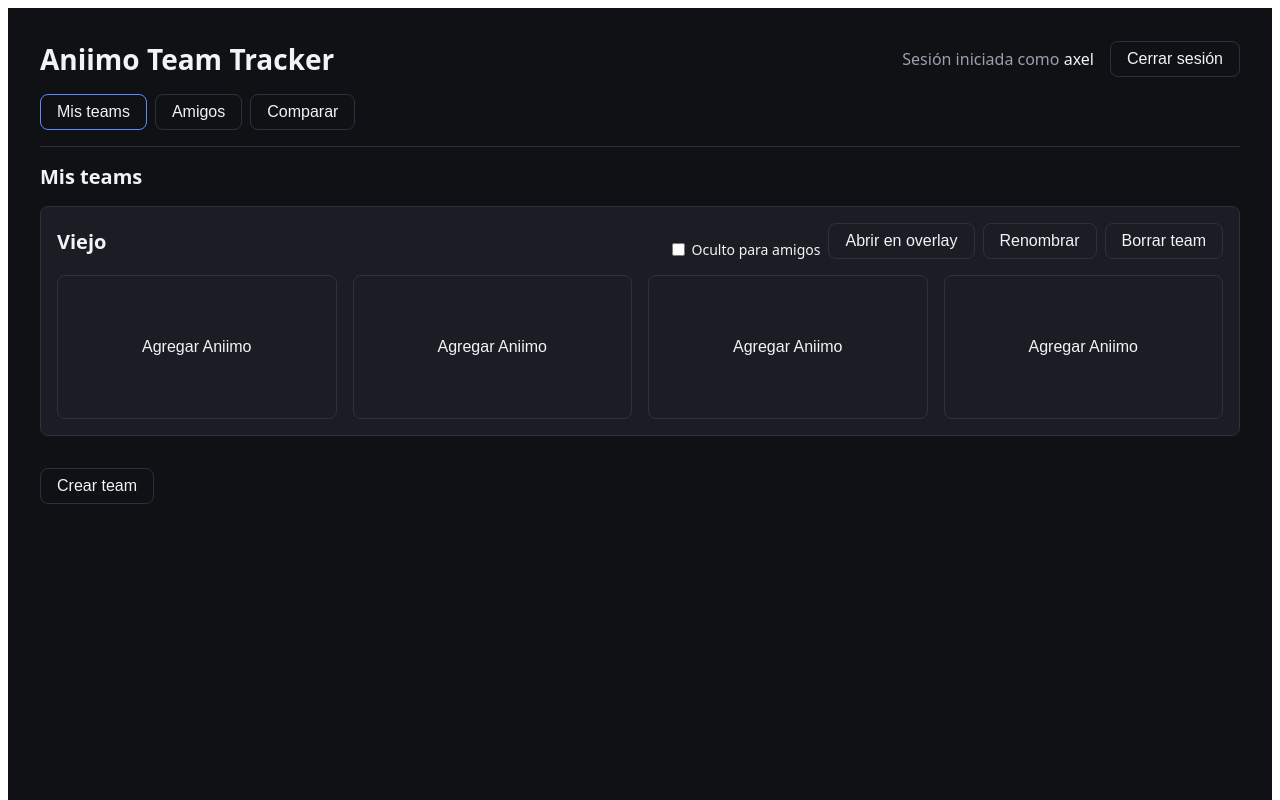
renombrar team › envia el nuevo nombre y muestra el que devuelve la recarga
Check: the heading "Mis teams" is shown, box [40,163,142,190]
Click the button "Renombrar": (1040, 241) [982,223,1096,259]
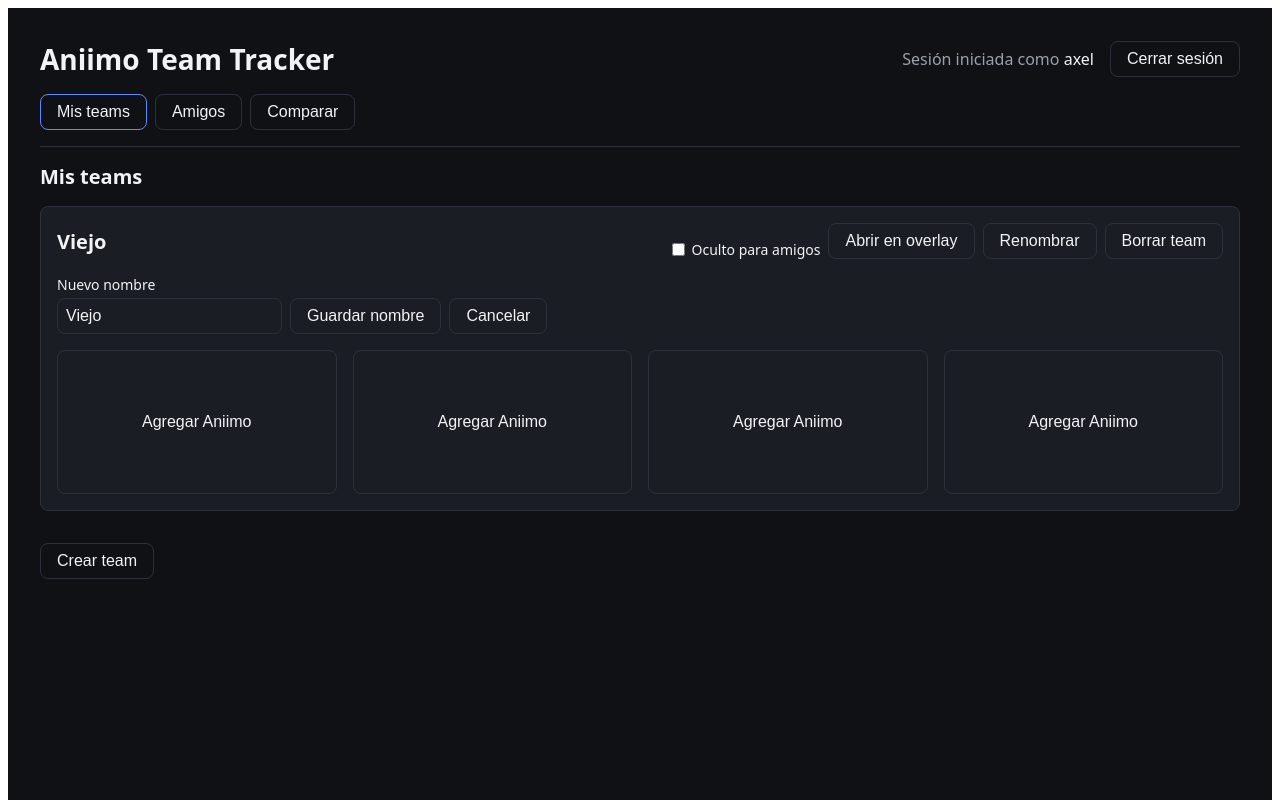
Replace the text in the field labelled "Nuevo nombre" with "Nuevo": (170, 316) [57,298,282,334]
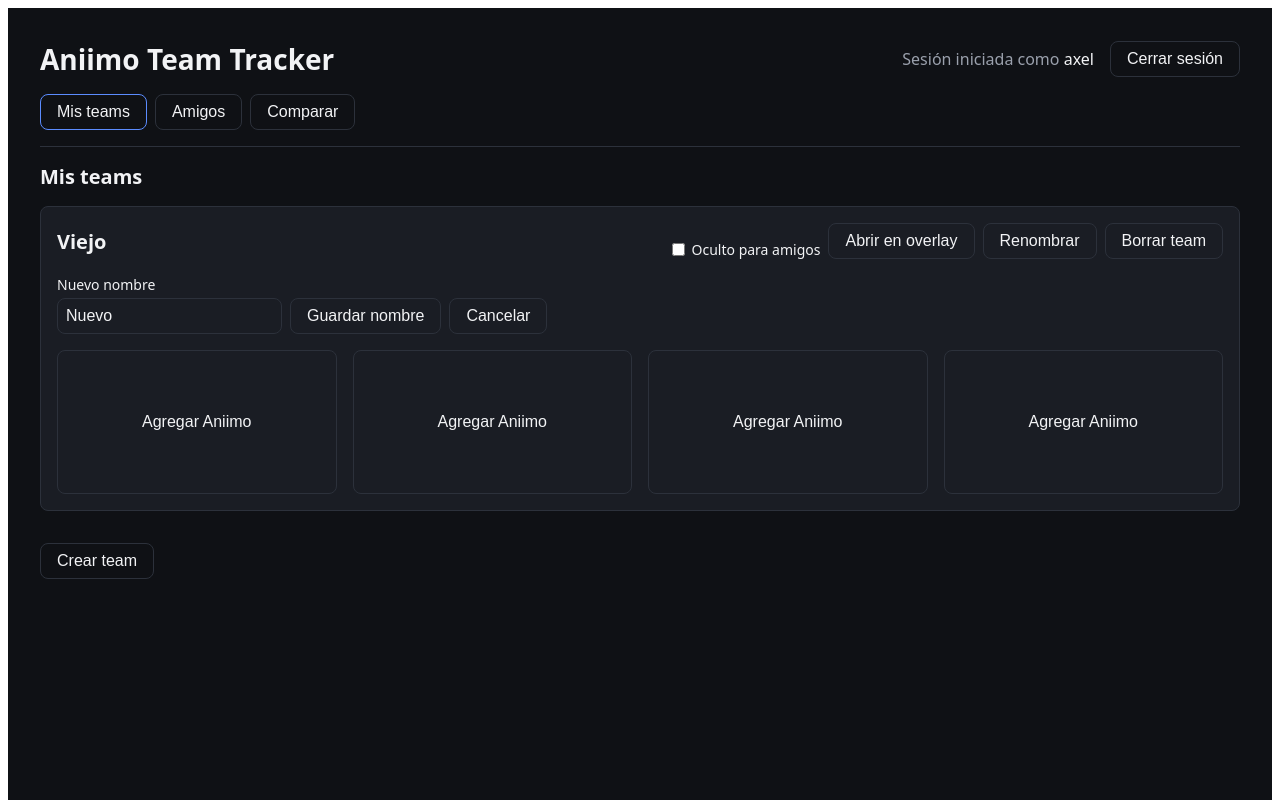
Click the button "Guardar nombre": (366, 316) [290,298,441,334]
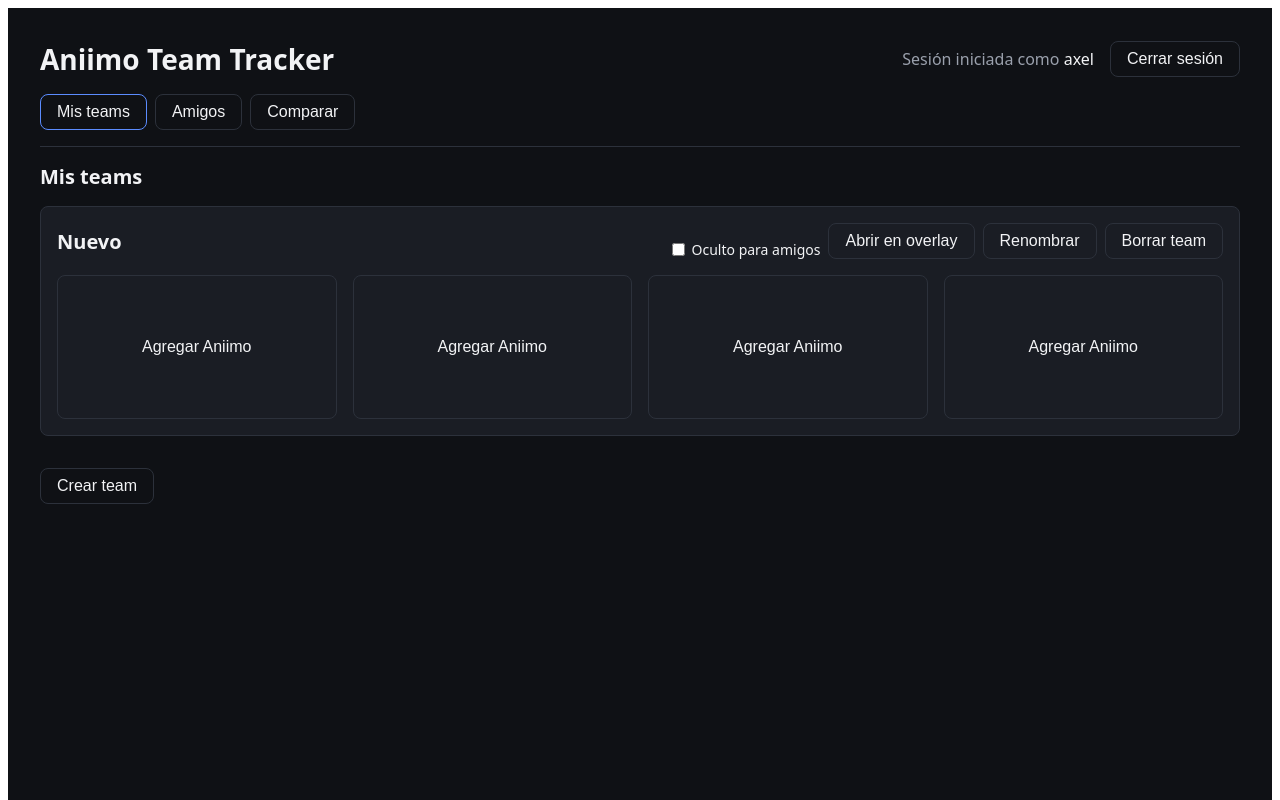
Check: the heading "Nuevo" is shown, box [57,228,122,254]
